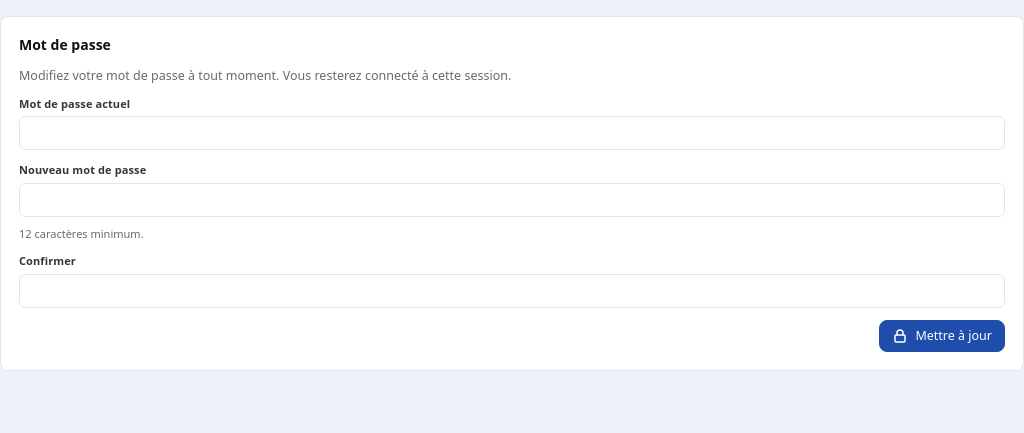
Test: <PasswordChangeSection /> › 4. surfaces INVALID_CURRENT_PASSWORD inline
The width and height of the screenshot is (1024, 433).
In the password field labelled "Mot de passe actuel": point(512, 134) top-left (19, 116), bottom-right (1005, 150), type "Wrong-Pwd-2026!"
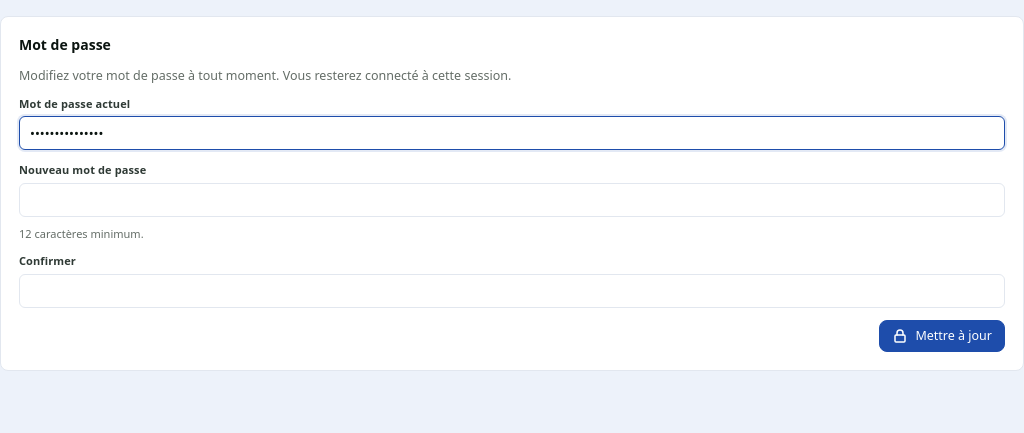
In the password field labelled "Nouveau mot de passe": point(512, 200) top-left (19, 183), bottom-right (1005, 217), type "Brand-New-Pwd-2026!"
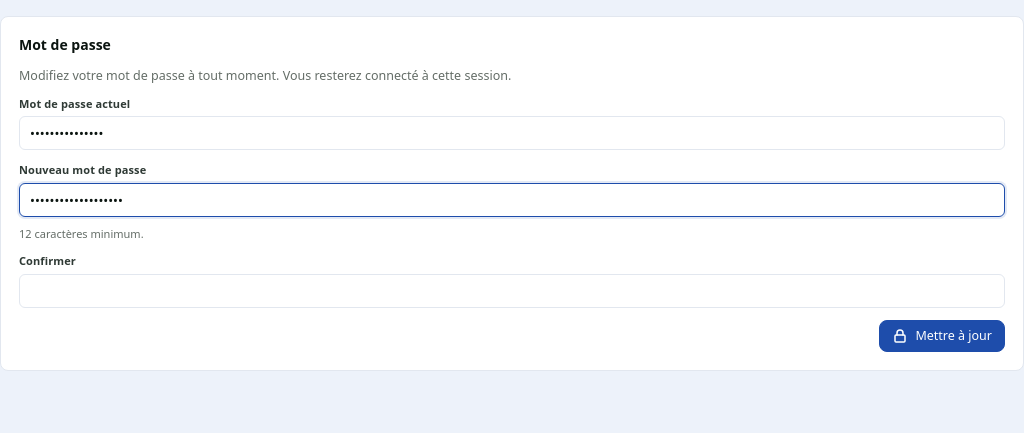
In the password field labelled "Confirmer": point(512, 291) top-left (19, 274), bottom-right (1005, 308), type "Brand-New-Pwd-2026!"
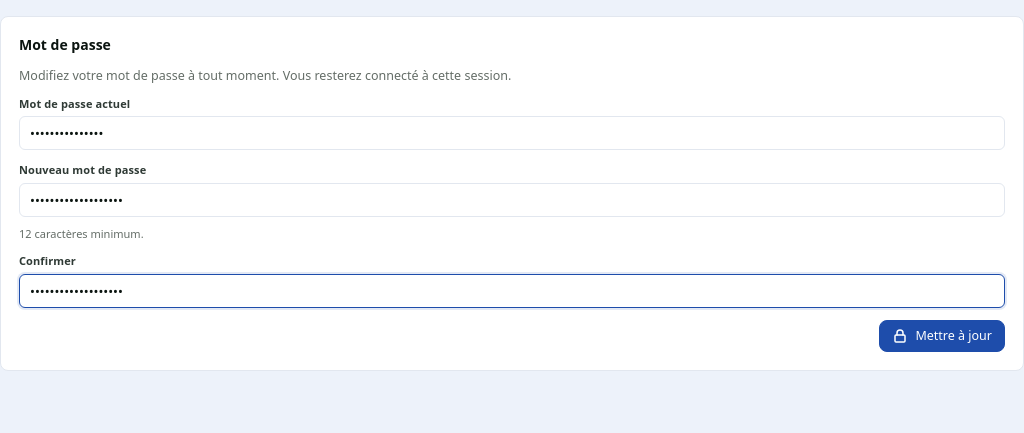
Click the button "Mettre à jour": point(942, 336) top-left (879, 320), bottom-right (1005, 352)
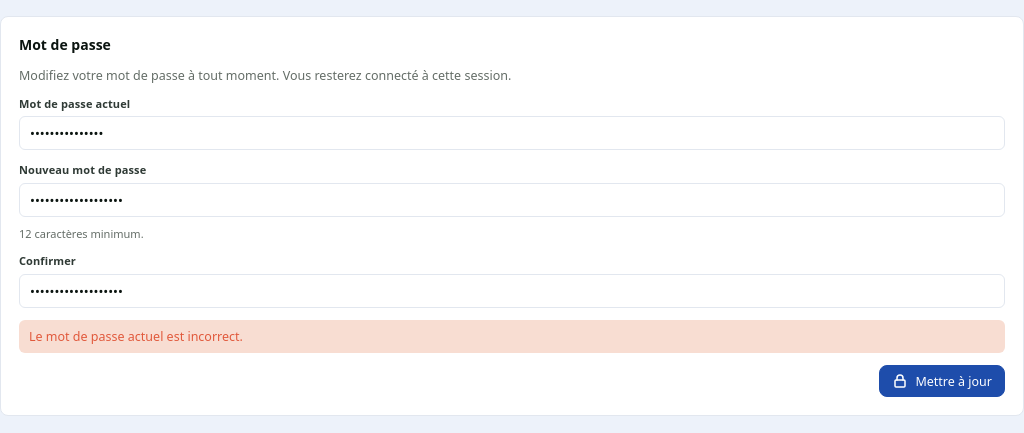
Check: the text "Le mot de passe actuel est incorrect." is shown, box top-left (19, 320), bottom-right (1005, 353)
